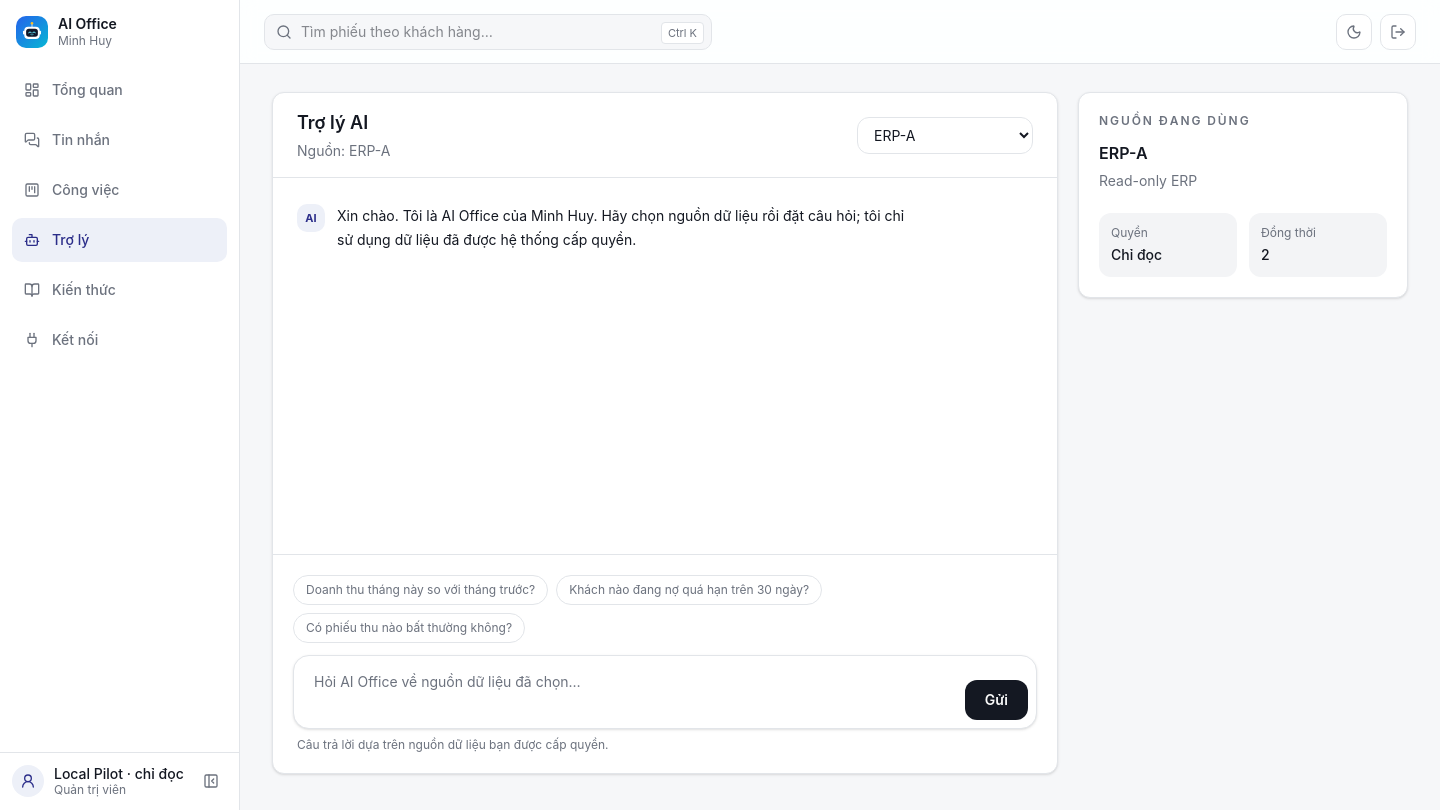
Test: cancel discards draft without mutations or success; reopening shows the registered values
The image size is (1440, 810).
Click the button "Kết nối" at (120,340), box x1=12 y1=318 x2=227 y2=362
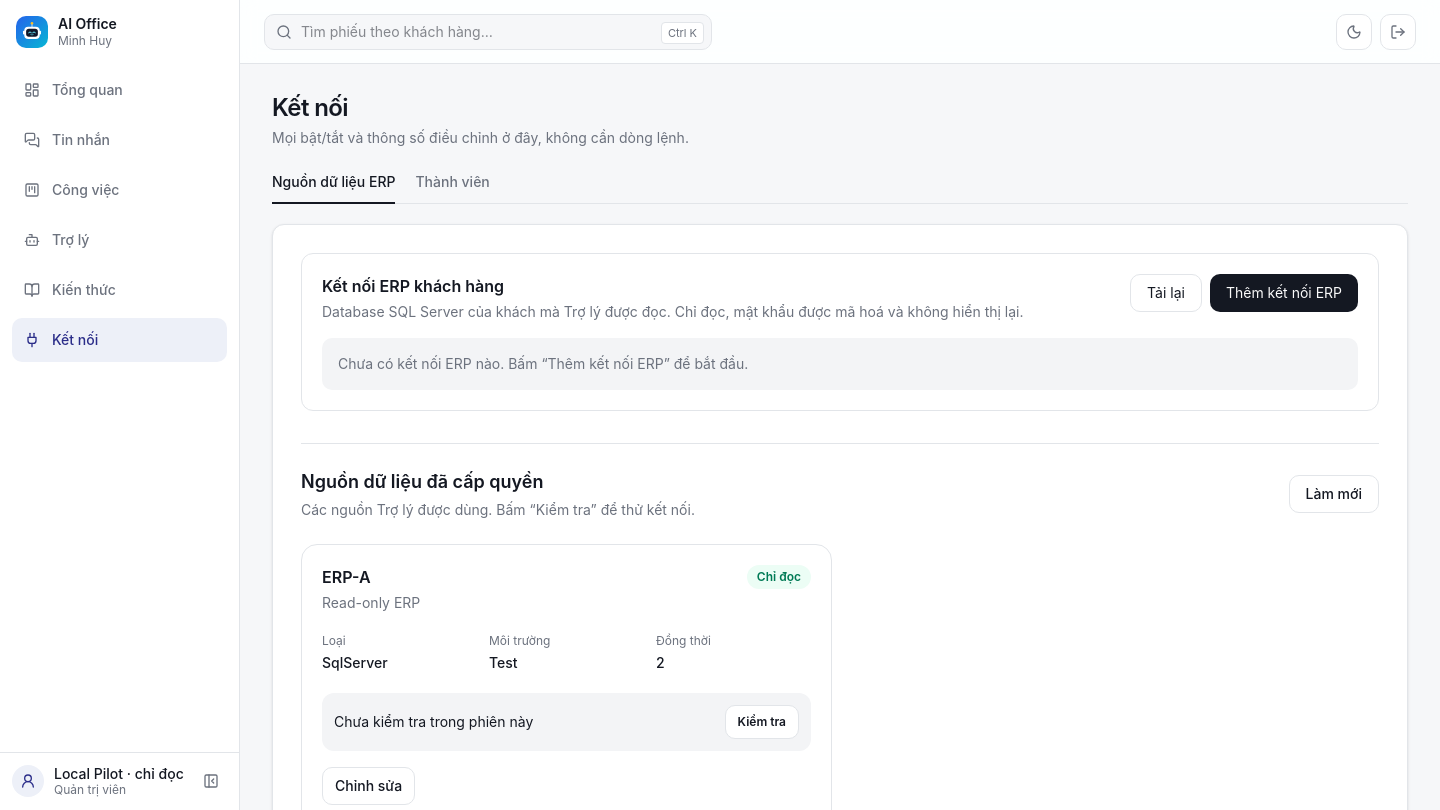
Click the button "Chỉnh sửa" at (369,786), box x1=322 y1=767 x2=415 y2=805
(page scrolled)
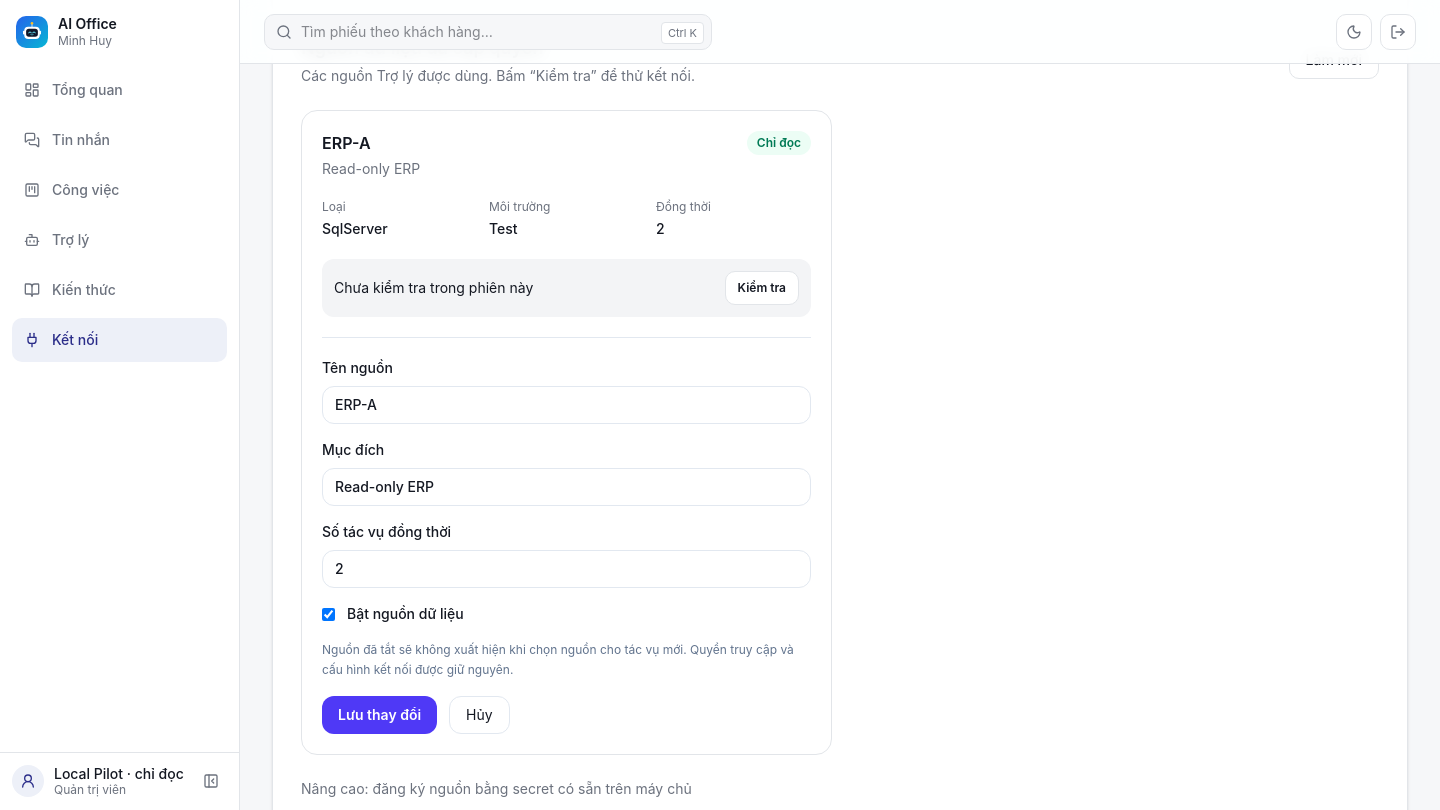
Expected: the form named "Chỉnh sửa nguồn dữ liệu" is shown, x1=322 y1=337 x2=811 y2=734
Replace the text in the field labelled "Tên nguồn" with "DISCARDED" at (566,405), box x1=322 y1=386 x2=811 y2=424
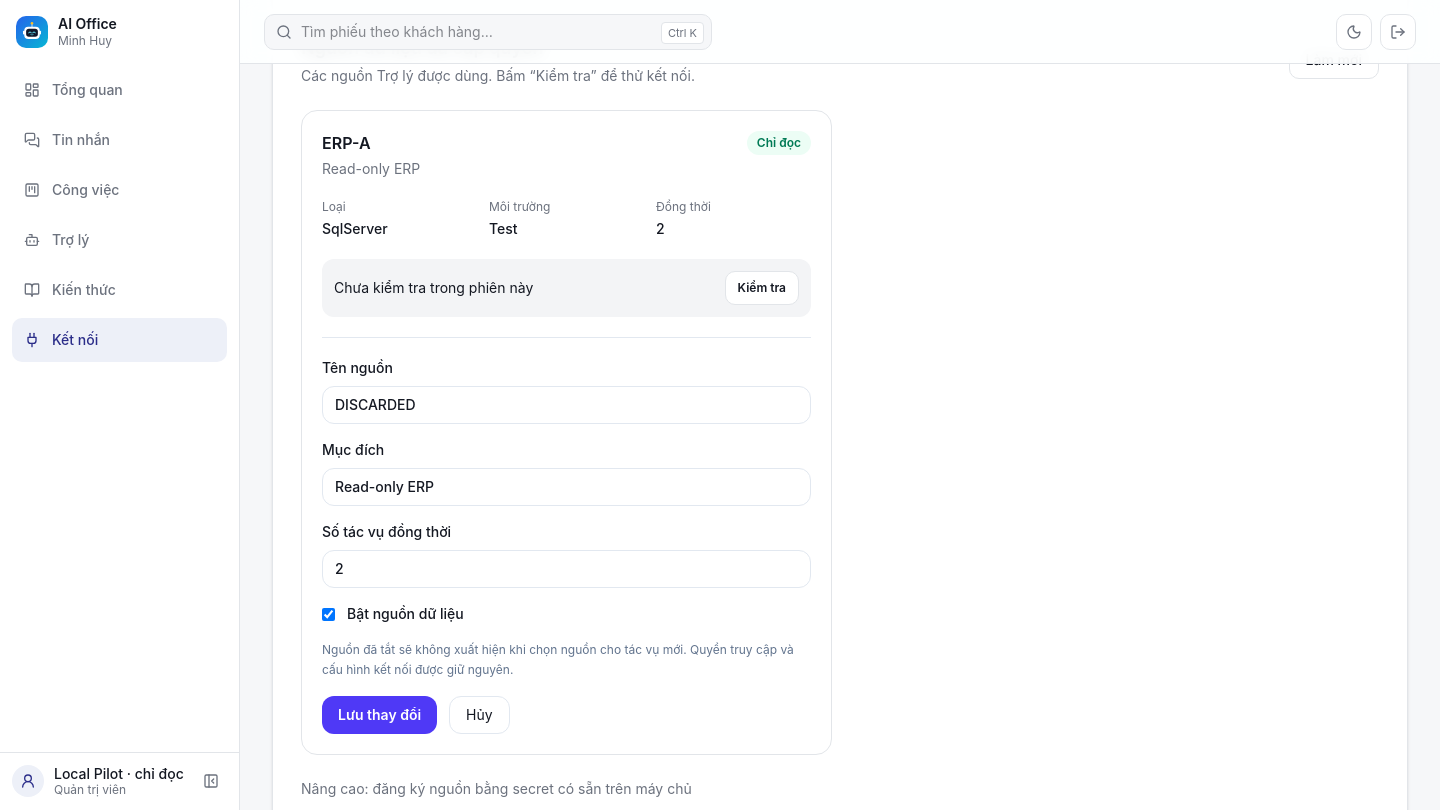
Click the button "Hủy" at (479,715), box x1=449 y1=696 x2=510 y2=734
(page scrolled)
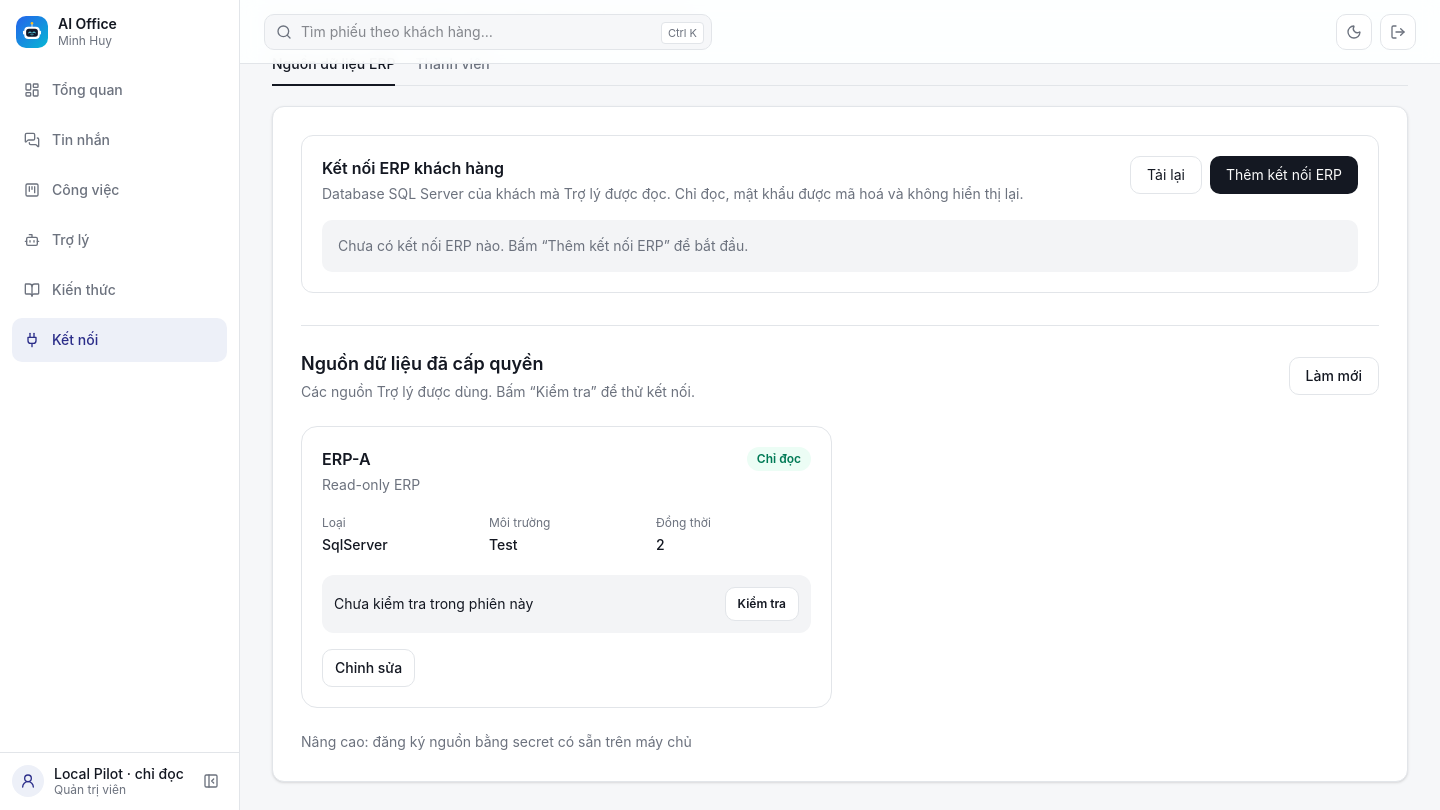
Click the button "Chỉnh sửa" at (369,668), box x1=322 y1=649 x2=415 y2=687
(page scrolled)
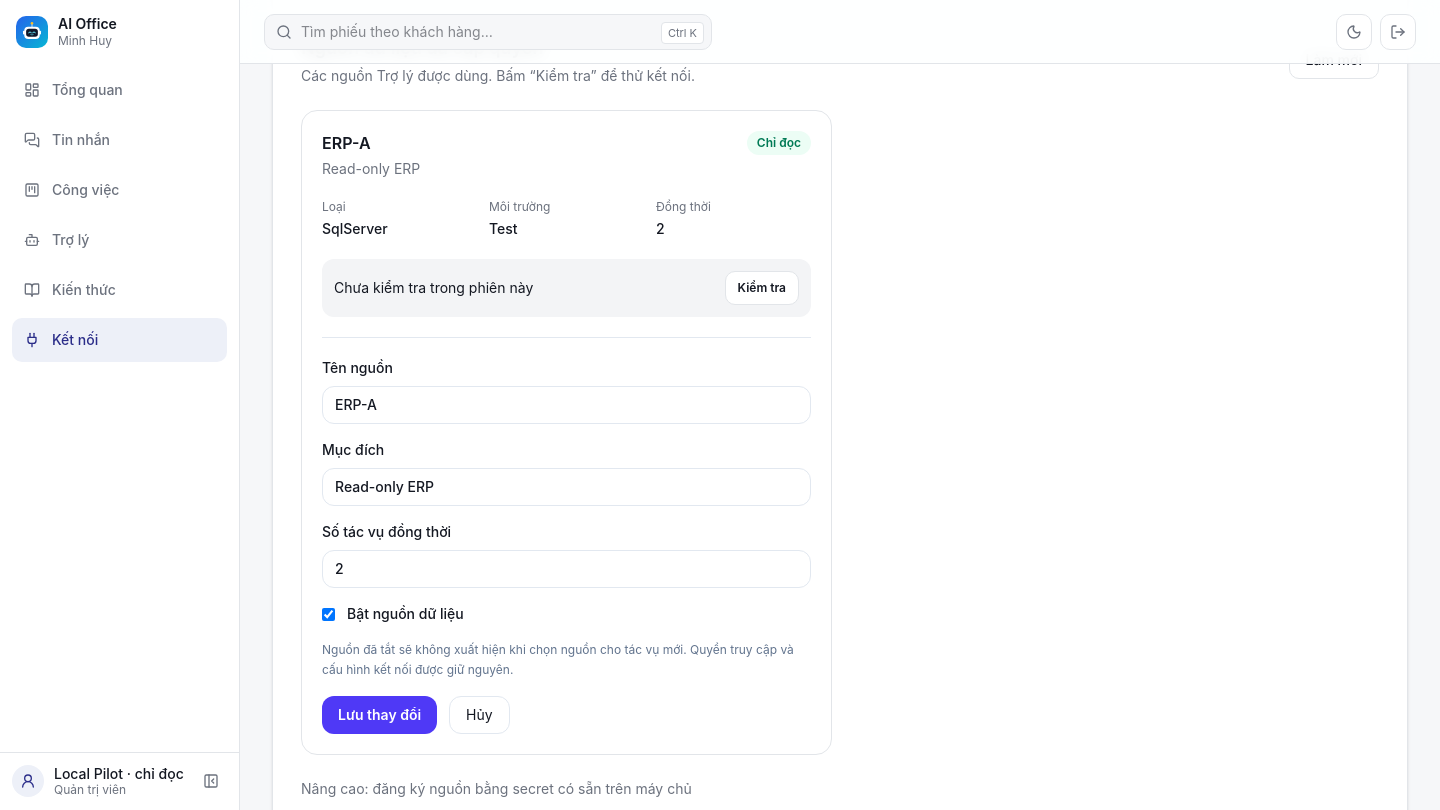
Expected: the field labelled "Tên nguồn" holds "ERP-A", x1=322 y1=386 x2=811 y2=424
